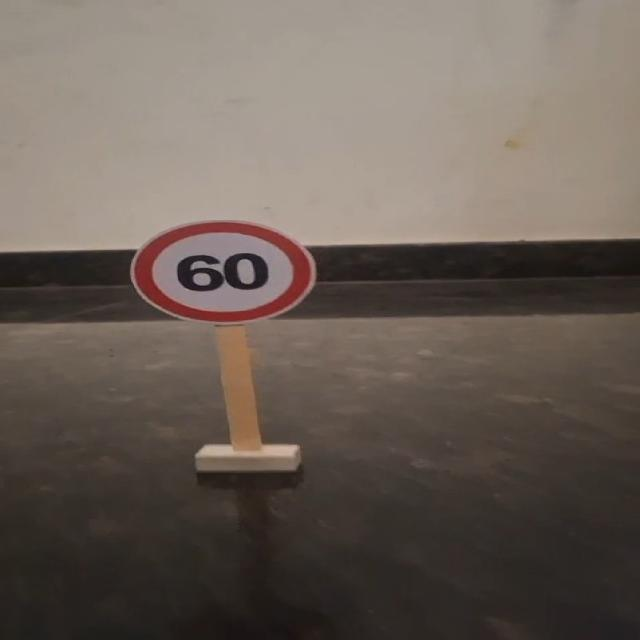Speed60: (126, 217, 319, 327)
